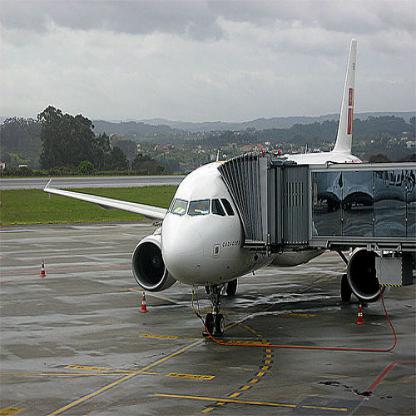aeroplane: (36, 16, 399, 340)
